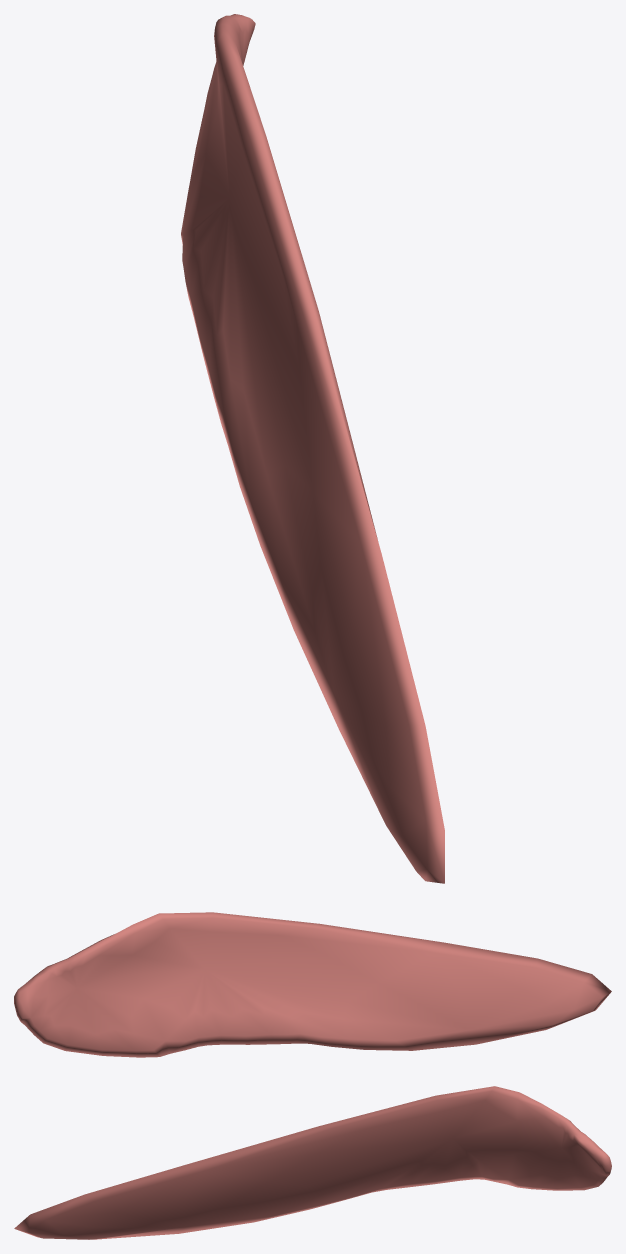
The picture shows the model from 3 angles, top to bottom: view 1: azimuth 30°, elevation 25°; view 2: azimuth 150°, elevation 25°; view 3: azimuth 270°, elevation 25°; orthographic projection. The views are drawn at different scales.
Parts seen in each view (by area): view 1: ZA_2d1532ea588e0b12; view 2: ZA_2d1532ea588e0b12; view 3: ZA_2d1532ea588e0b12.
Boxes of the visible parts, left/top/right/bottom form: ZA_2d1532ea588e0b12: left=181, top=14, right=444, bottom=883; ZA_2d1532ea588e0b12: left=14, top=912, right=611, bottom=1057; ZA_2d1532ea588e0b12: left=14, top=1086, right=611, bottom=1239.
Bounding box in the file's own units: 0.00877 × 0.00909 × 0.0229.
